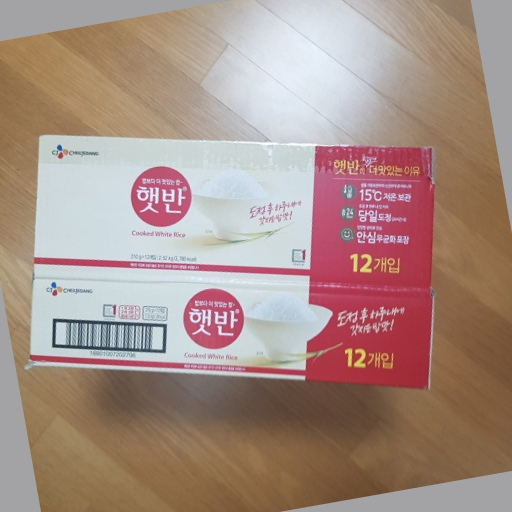Paper_0: (21, 131, 439, 397)
